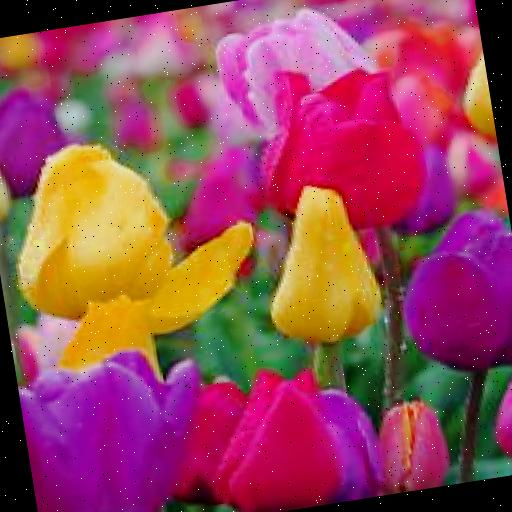tulip: (4, 120, 265, 318), (14, 339, 223, 512), (246, 56, 436, 238), (196, 364, 347, 512)
